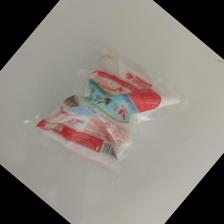Ajinomoto: (31, 46, 190, 176)
